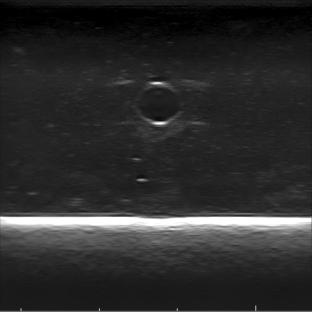vessel: (134, 81, 185, 127)
